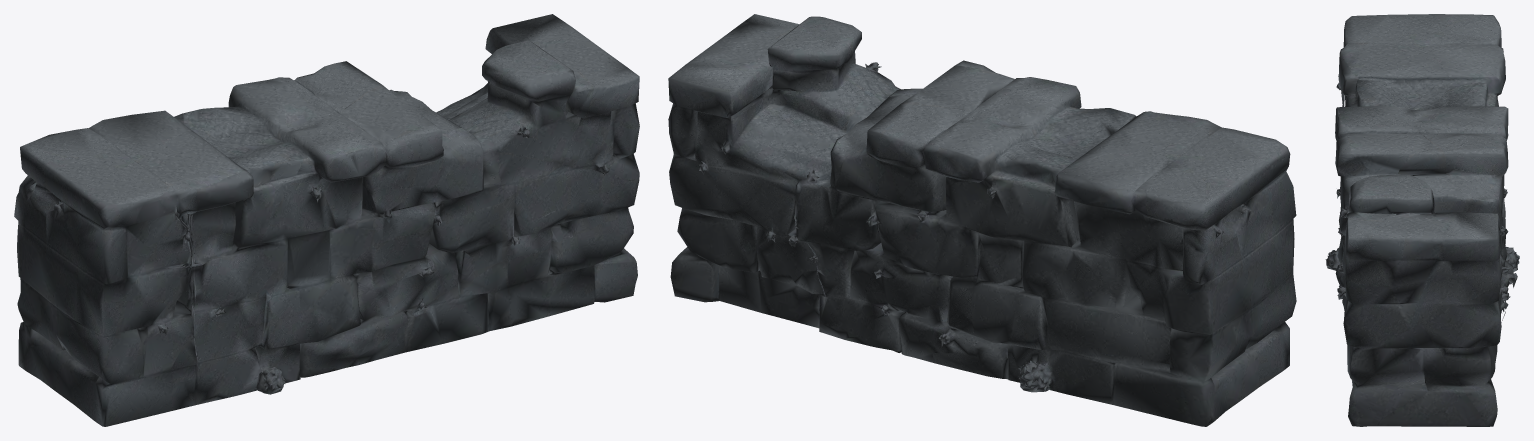
File: og_ruin_wall.glb
3 renders of one model, left to right at view 1: azimuth 30°, elevation 25°; view 2: azimuth 150°, elevation 25°; view 3: azimuth 270°, elevation 25°, orthographic. The views are drawn at different scales.
Size of the model in its own units: 1.9 by 0.8007 by 0.6846.
Materials: 1 (1 with a texture image).
